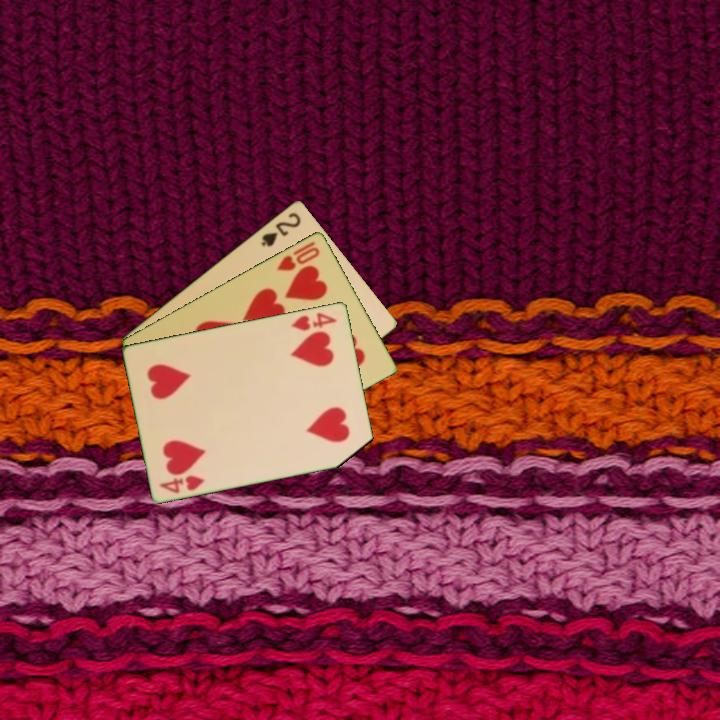10h: (273, 243, 323, 274)
2s: (257, 208, 304, 249)
4h: (288, 308, 340, 333), (156, 471, 207, 496)
